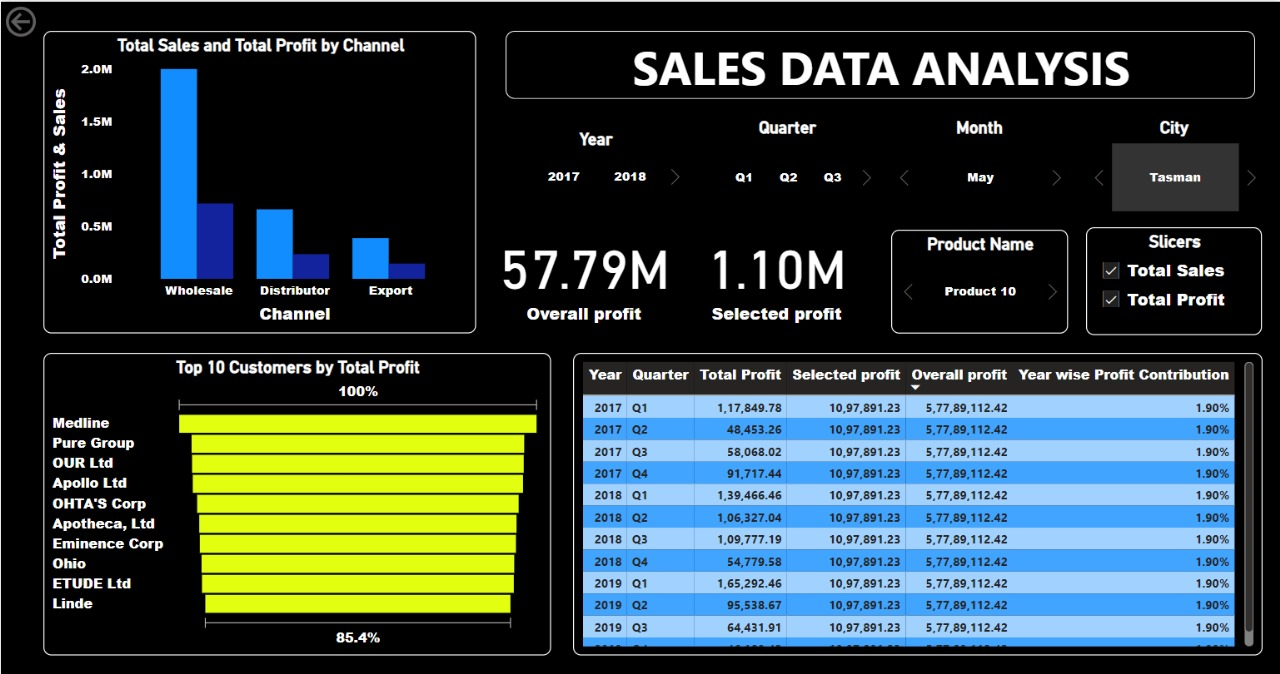

What the dashboard file says about the page in this screenshot:
{"tool":"powerbi","page":{"name":"Page 1","canvas":[1280,720],"ordinal":0},"visuals":[{"type":"clusteredColumnChart","fields":{"Category":["orders.Channel"],"Y":["measures table.Total Sales","measures table.Total Profit"]},"box":[42.5,29.2,433.3,303.3],"z":0},{"type":"funnel","title":"Top 10 Customers by Total  Profit","fields":{"Category":["sales top_10_customers.Customer Names"],"Y":["Sum(sales top_10_customers.Total Profit)"]},"box":[42.5,351.7,507.5,303.3],"z":1},{"type":"actionButton","box":[0,0,100,40],"z":3},{"type":"slicer","title":"Slicers","fields":{"Values":["Slicers.Slicers"]},"box":[1085.8,225.8,175.8,107.5],"z":4},{"type":"slicer","title":"Year","fields":{"Values":["DateTable.Year"]},"box":[505,127.5,180.8,76.7],"z":6},{"type":"card","fields":{"Values":["measures table.Selected profit"]},"box":[672.5,213.3,207.5,119.2],"z":7},{"type":"card","fields":{"Values":["measures table.Overall profit"]},"box":[480.8,213.3,205,119.2],"z":8},{"type":"tableEx","fields":{"Values":["DateTable.Year","DateTable.Quarter","measures table.Total Profit","measures table.Selected profit","measures table.Overall profit","measures table.Yearwise Profit Contribution"]},"box":[572.5,351.7,690,303.3],"z":9},{"type":"slicer","title":"Month","fields":{"Values":["DateTable.Month"]},"box":[890.8,115.8,176.7,100.8],"z":10},{"type":"slicer","title":"Quarter","fields":{"Values":["DateTable.Quarter"]},"box":[696.7,115.8,180.8,100.8],"z":11},{"type":"slicer","title":"City","fields":{"Values":["regions.City"]},"box":[1085.8,115.8,176.7,100.8],"z":12},{"type":"slicer","title":"Product Name","fields":{"Values":["products.Product Name"]},"box":[890.8,228.3,176.7,104.2],"z":13},{"type":"textbox","title":"SALES  DATA ANALYSIS","box":[505,29.2,750,67.5],"z":14}]}

Visuals, with their boxes on the page's 1280x720 design canvas (x1, y1, x2, y2). These are canvas units, not pixel positions in the 1280x674 screenshot, which may show the page scaled, cropped or inside an application window:
clusteredColumnChart - orders.Channel x measures table.Total Sales: l=42, t=29, r=476, b=332
"Top 10 Customers by Total  Profit" funnel: l=42, t=352, r=550, b=655
actionButton: l=0, t=0, r=100, b=40
"Slicers" slicer: l=1086, t=226, r=1262, b=333
"Year" slicer: l=505, t=128, r=686, b=204
card - measures table.Selected profit: l=672, t=213, r=880, b=332
card - measures table.Overall profit: l=481, t=213, r=686, b=332
tableEx - DateTable.Year x DateTable.Quarter: l=572, t=352, r=1262, b=655
"Month" slicer: l=891, t=116, r=1068, b=217
"Quarter" slicer: l=697, t=116, r=878, b=217
"City" slicer: l=1086, t=116, r=1262, b=217
"Product Name" slicer: l=891, t=228, r=1068, b=332
"SALES  DATA ANALYSIS" textbox: l=505, t=29, r=1255, b=97
